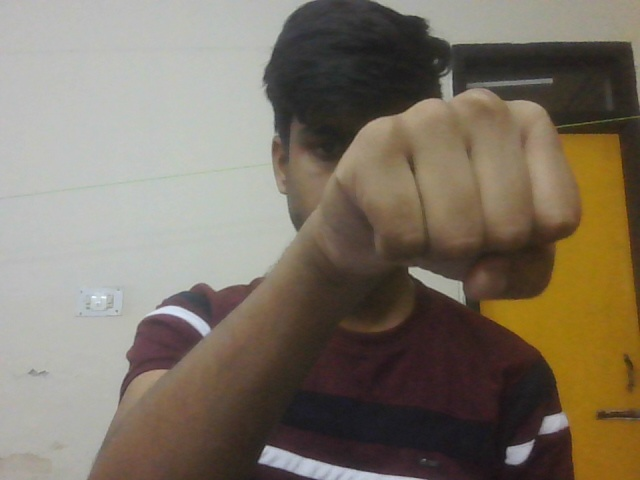yes: (284, 83, 597, 363)
